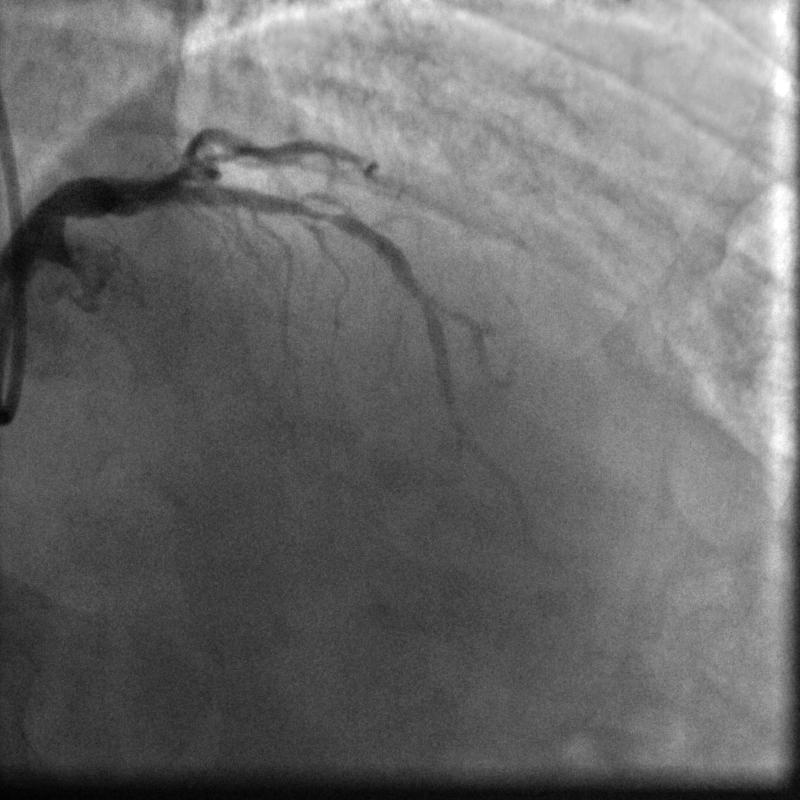Stenosis: (291, 198, 342, 228)
